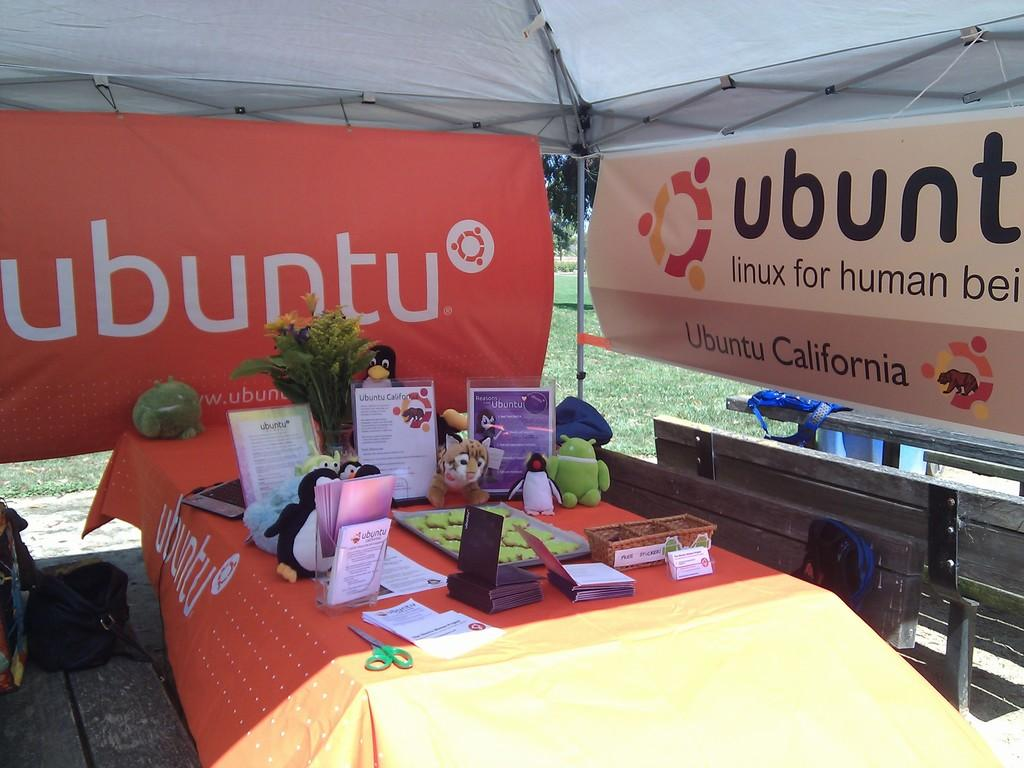Book: (465, 379, 555, 499)
